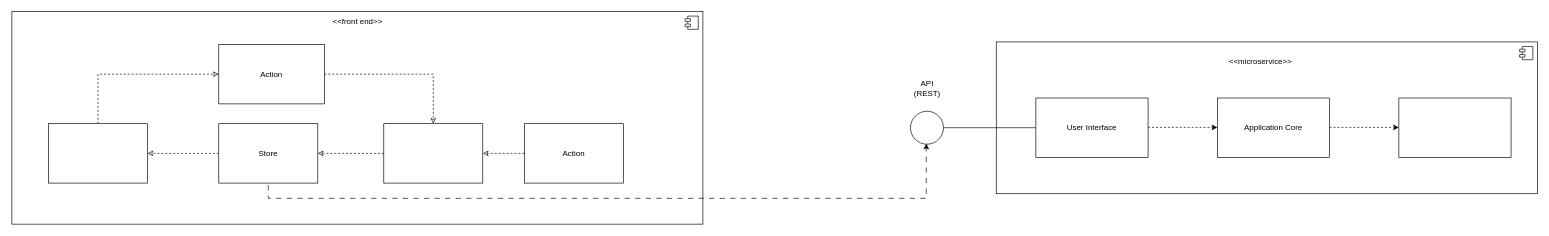
This 1549x236 diagram has some shape labels left out. Here are the shapes that lost their labels. From the top down, the box of each, then its label:
(1398, 97, 1511, 157): Infrastructure
(48, 123, 148, 183): View
(383, 123, 483, 183): Dispacher
